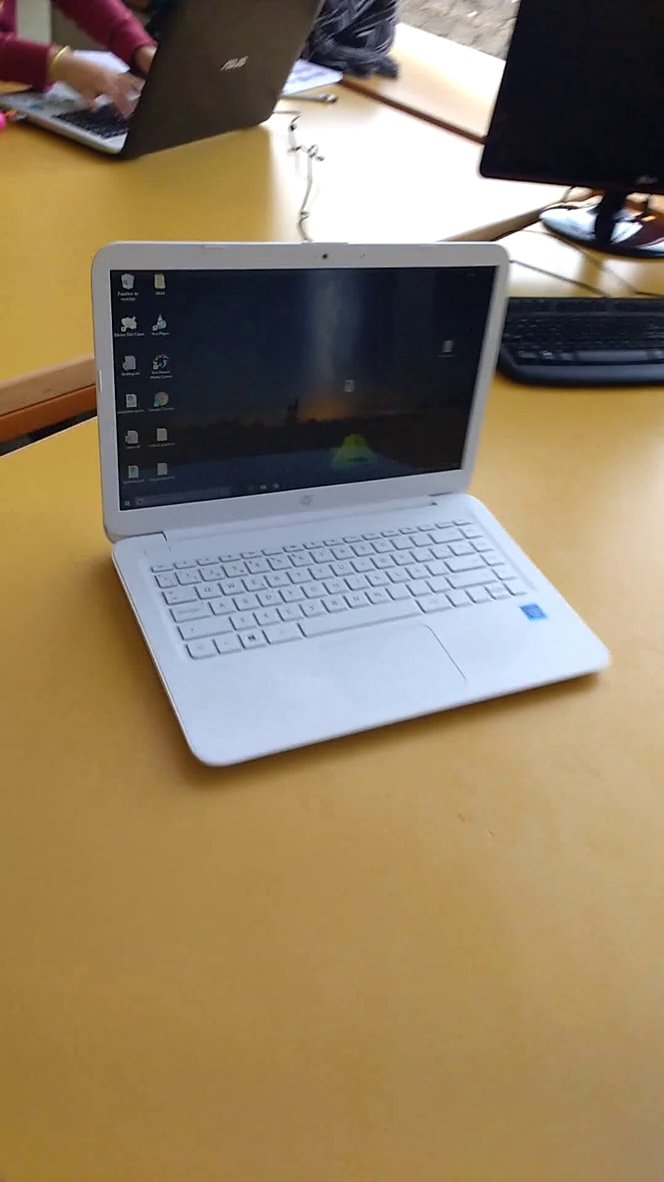laptop: (77, 229, 627, 778), (2, 1, 332, 168)
